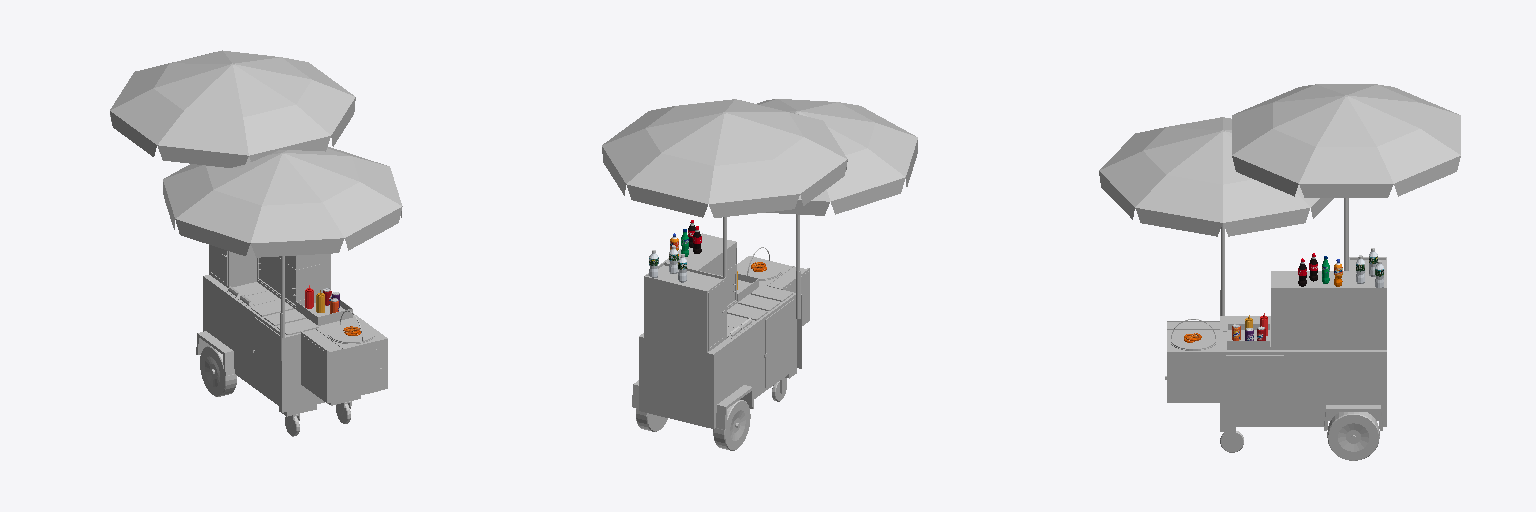
3 views of the same model, side by side, from view 1: azimuth 30°, elevation 25°; view 2: azimuth 150°, elevation 25°; view 3: azimuth 270°, elevation 25° (orthographic).
Visible parts, largest first — view 1: d01_low, d02_low, b02_low, b01_low, b04_low, b07_low, b03_low, e07_low, a03_low, b06_low, b08_low, a05_low (+1 smaller); view 2: d01_low, b02_low, d02_low, b03_low, b07_low, b04_low, e07_low, a03_low, b08_low, b01_low, a04_low; view 3: d01_low, d02_low, b02_low, b04_low, b07_low, b01_low, b03_low, e07_low, a04_low, b08_low, a05_low.
Part boxes in pixels (bbox=[...]): d01_low: bbox=[110, 50, 355, 167]; d02_low: bbox=[163, 147, 402, 257]; b02_low: bbox=[203, 275, 360, 411]; b01_low: bbox=[301, 319, 387, 403]; b04_low: bbox=[257, 254, 330, 306]; b07_low: bbox=[254, 317, 281, 405]; b03_low: bbox=[209, 244, 256, 287]; e07_low: bbox=[200, 346, 236, 396]; a03_low: bbox=[251, 300, 318, 334]; b06_low: bbox=[360, 349, 379, 395]; b08_low: bbox=[196, 331, 234, 375]; a05_low: bbox=[296, 297, 352, 323]; d01_low: bbox=[602, 99, 847, 217]; b02_low: bbox=[639, 284, 795, 428]; d02_low: bbox=[757, 99, 917, 215]; b03_low: bbox=[644, 262, 726, 352]; b07_low: bbox=[765, 299, 794, 387]; b04_low: bbox=[664, 233, 736, 307]; e07_low: bbox=[636, 400, 750, 450]; a03_low: bbox=[727, 285, 792, 320]; b08_low: bbox=[632, 380, 753, 429]; b01_low: bbox=[737, 256, 809, 325]; a04_low: bbox=[737, 260, 781, 280]; d01_low: bbox=[1232, 84, 1460, 197]; d02_low: bbox=[1099, 117, 1333, 236]; b02_low: bbox=[1220, 316, 1386, 426]; b04_low: bbox=[1271, 271, 1348, 346]; b07_low: bbox=[1226, 355, 1283, 423]; b01_low: bbox=[1167, 330, 1219, 402]; b03_low: bbox=[1349, 257, 1386, 349]; e07_low: bbox=[1327, 412, 1379, 460]; a04_low: bbox=[1170, 330, 1216, 350]; b08_low: bbox=[1324, 405, 1382, 430]; a05_low: bbox=[1227, 324, 1269, 346].
Size of the model in its own units: 5.09 by 7.34 by 7.31.
Materials: 2 (1 with a texture image).